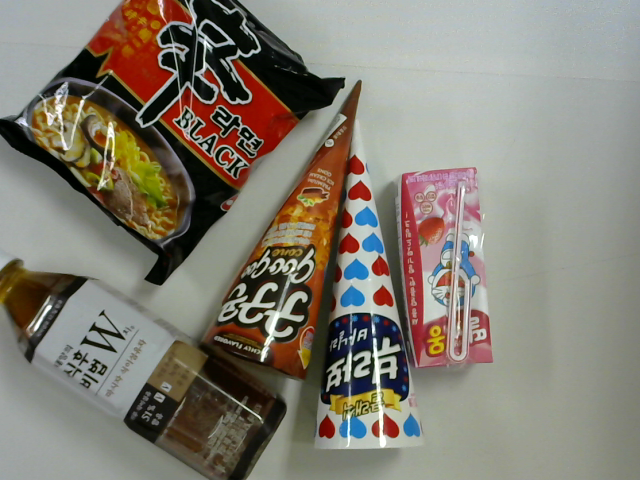Bravo_Cone_(Banila)_CVS: (311, 118, 436, 459)
GooGoo_Cone_CVS: (209, 79, 360, 380)
Post-meal_recipe_W_tea_500ml: (1, 257, 290, 478)
Sinramen_Black: (5, 1, 314, 259)
Strawberry_E_Mong: (399, 169, 492, 376)
